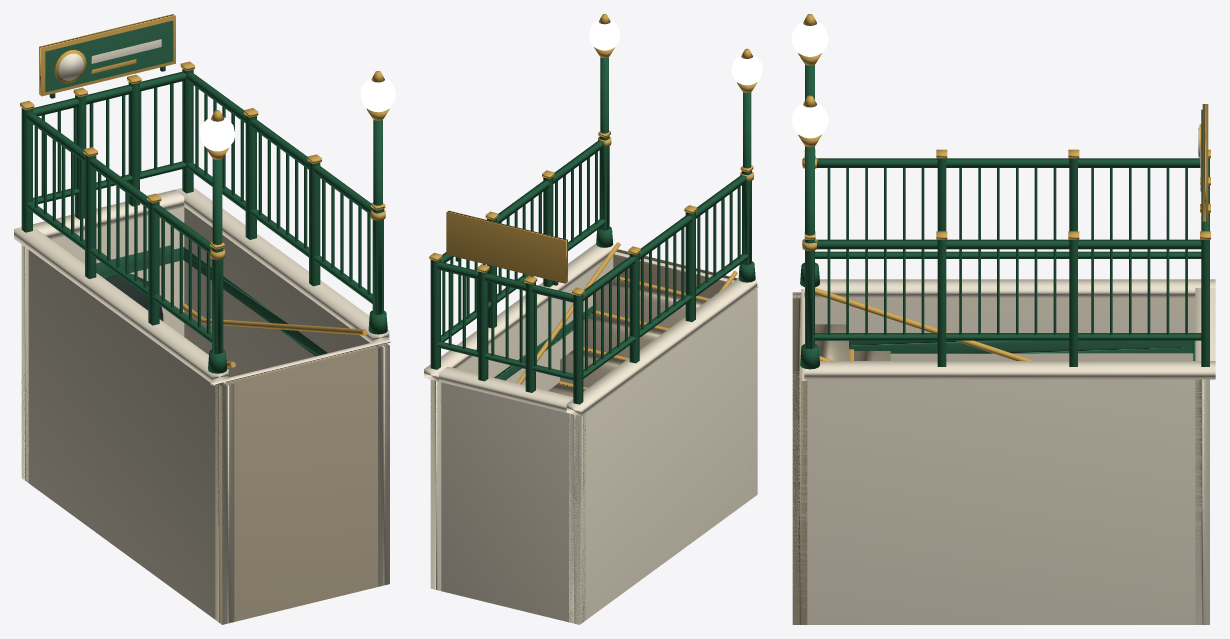
File: street_subway.glb
The picture shows the model from 3 angles, left to right: view 1: azimuth 30°, elevation 25°; view 2: azimuth 150°, elevation 25°; view 3: azimuth 270°, elevation 25°; orthographic projection. The views are drawn at different scales.
Visible parts, largest first — view 1: WallL, WallMouth, WallR, WallFar, CopingL, CopingR, SignFace, RailLTop, RailRTop, SignFrame, LampPostL, RailLBottom (+24 smaller); view 2: WallL, WallFar, WallR, SignFrame, CopingL, CopingR, CopingFar, Step0, RailLTop, WallMouth, RailLBottom, LampPostL (+20 smaller); view 3: WallR, WallL, CopingR, CopingL, WallMouth, BandL, RailRTop, WallFar, RailLTop, RailRBottom, RailLBottom, LampPostR (+12 smaller).
Part boxes in pixels (x1,y1,x2,y2): WallL: (21,250,234,624); WallMouth: (215,343,389,624); WallR: (184,207,389,586); WallFar: (21,207,184,482); CopingL: (14,226,228,383); CopingR: (175,187,389,343); SignFace: (45,20,173,92); RailLTop: (26,112,211,253); RailRTop: (187,73,372,214); SignFrame: (39,14,175,96); LampPostL: (212,159,222,353); RailLBottom: (26,201,211,342); WallL: (569,283,757,624); WallFar: (430,381,585,624); WallR: (430,249,618,590); SignFrame: (446,210,567,283); CopingL: (566,278,756,416); CopingR: (424,243,614,381); CopingFar: (439,366,573,412); Step0: (596,278,706,328); RailLTop: (583,175,746,300); WallMouth: (613,249,737,298); RailLBottom: (583,253,747,378); LampPostL: (743,92,751,264); WallR: (792,371,1209,624); WallL: (792,292,1195,360); CopingR: (804,361,1215,379); CopingL: (804,279,1215,298); WallMouth: (792,292,807,624); BandL: (849,340,1194,353); RailRTop: (814,239,1201,249); WallFar: (1195,379,1209,624); RailLTop: (817,158,1200,167); RailRBottom: (814,333,1201,340); RailLBottom: (815,251,1201,258); LampPostR: (805,146,814,348).
Size of the model in its own units: 1.59 by 4.04 by 2.95.
